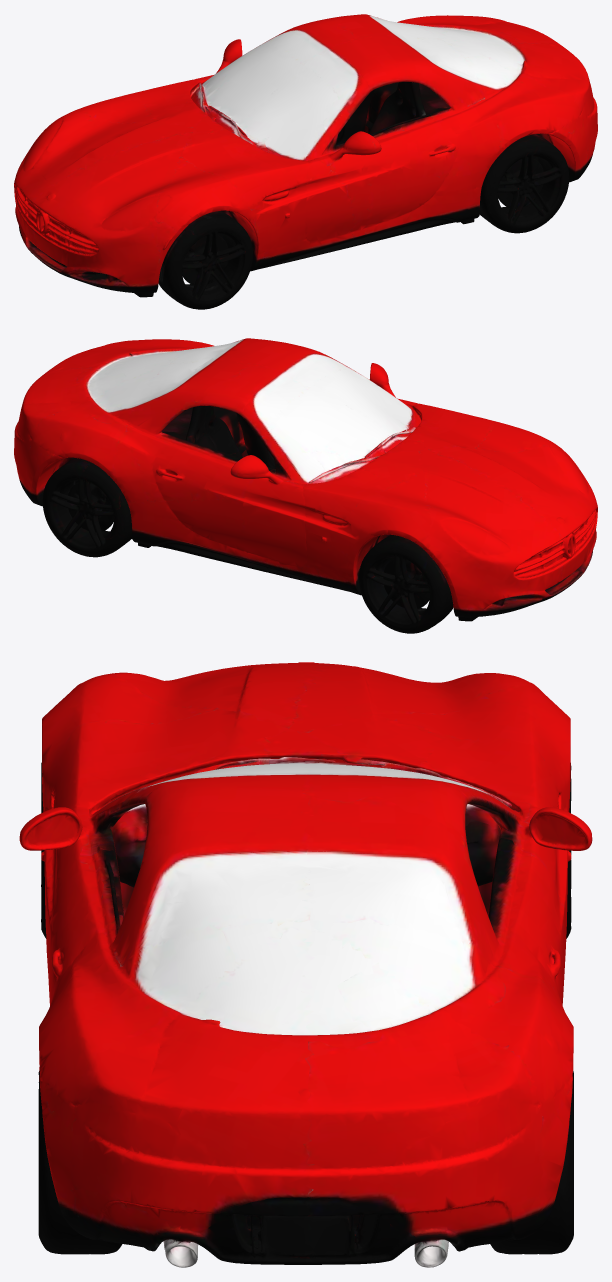
File: coupe.glb
The picture shows the model from 3 angles, top to bottom: view 1: azimuth 30°, elevation 25°; view 2: azimuth 150°, elevation 25°; view 3: azimuth 270°, elevation 25°; orthographic projection. The views are drawn at different scales.
Size of the model in its own units: 1.9 by 0.5892 by 0.8876.
1 material, 1 textured.
